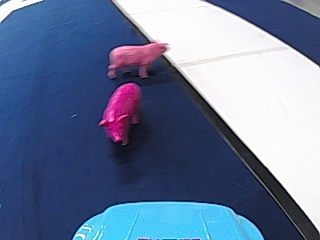pig: (98, 77, 140, 147), (105, 38, 166, 78)
